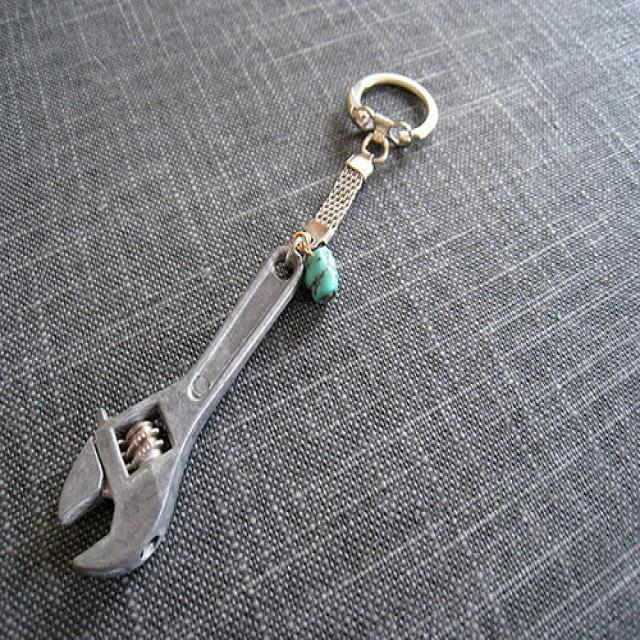wrench: (50, 238, 308, 584)
